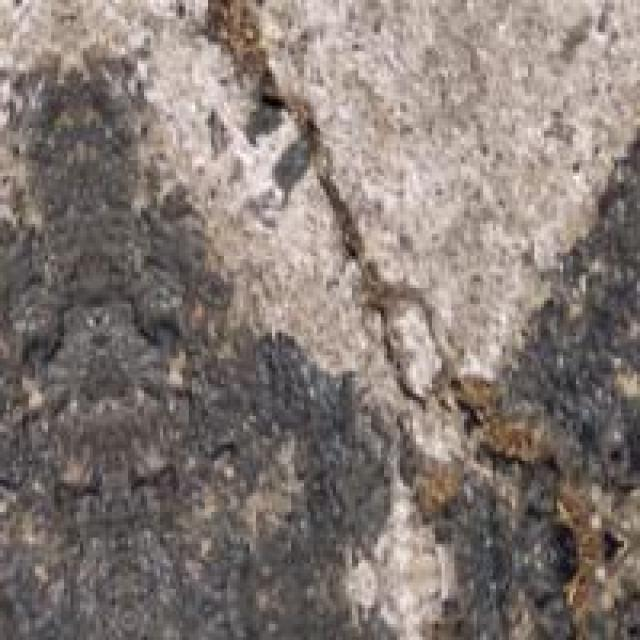Crack: (228, 9, 550, 374)
